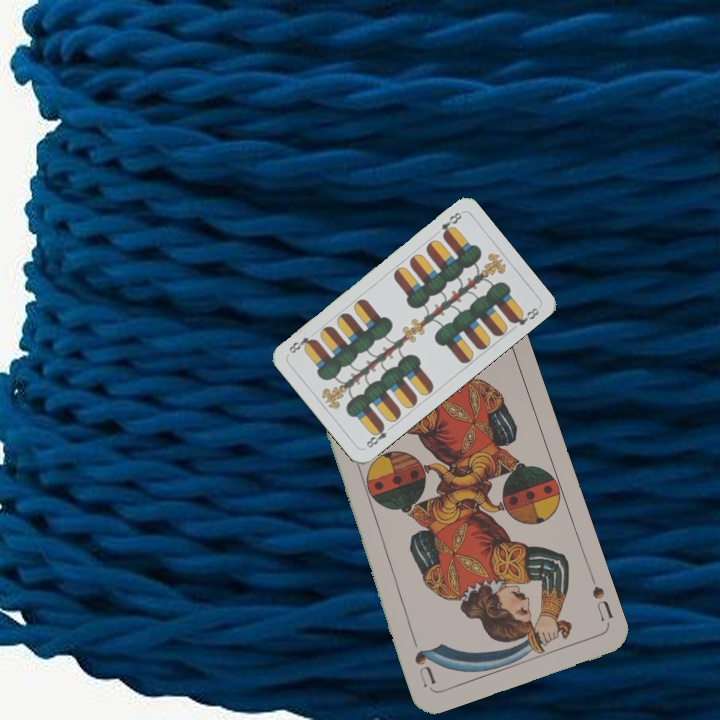E8: (362, 420, 395, 451), (437, 208, 464, 240)
SU: (586, 570, 616, 624)
